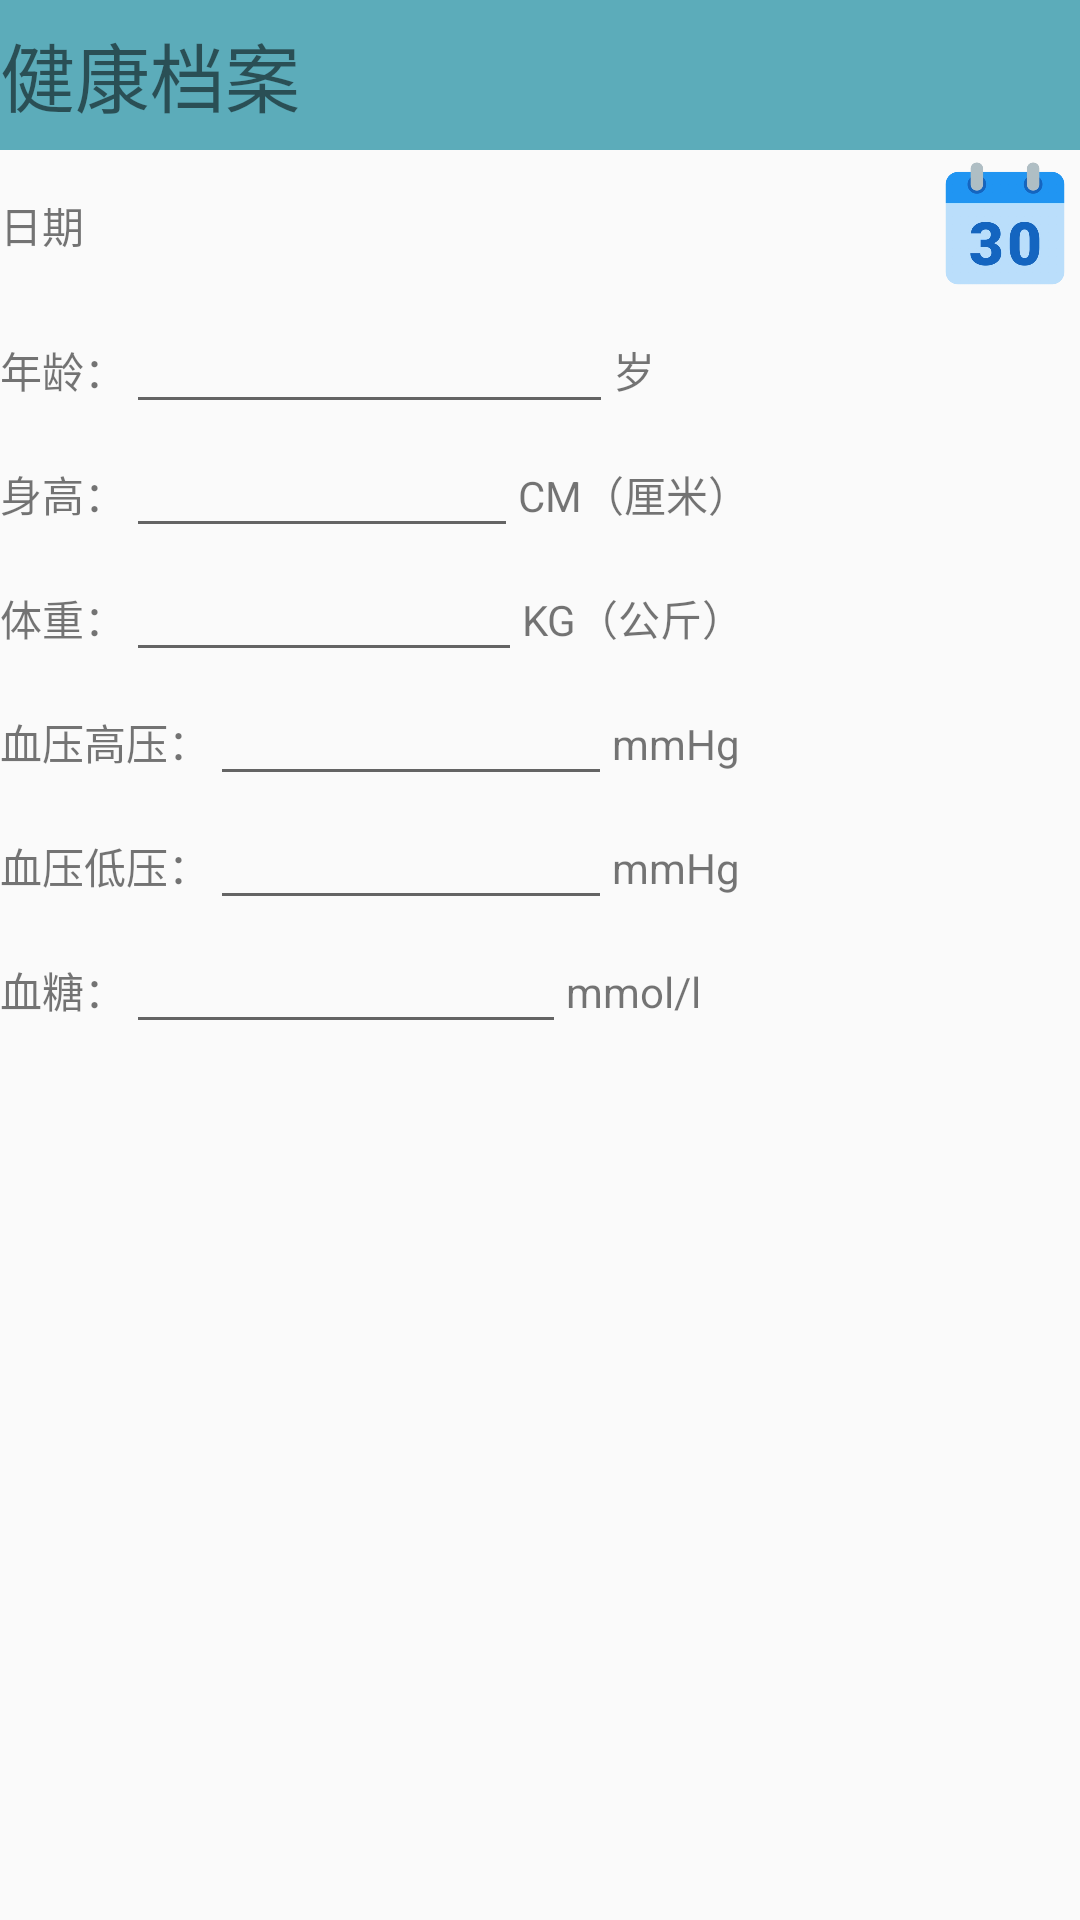

Screen size 1080w x 1920h. Icon name, then its center in pixels as (x,y):
calendar: (1005,223)
